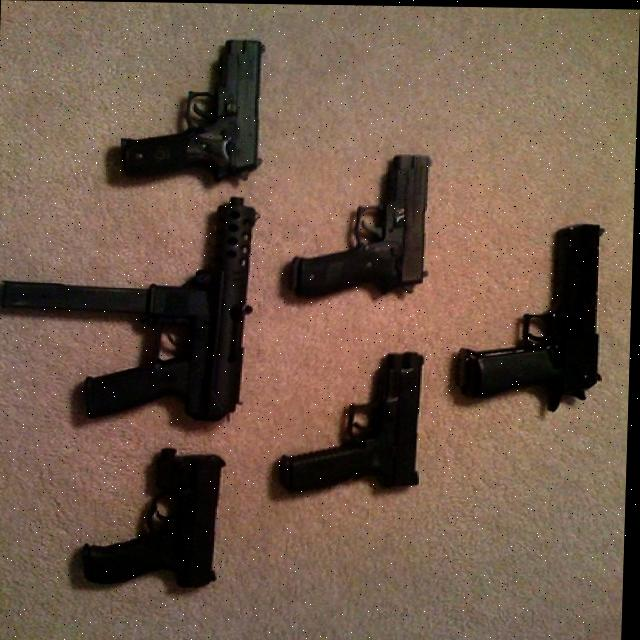pistol: (0, 193, 265, 422), (460, 219, 606, 413), (115, 38, 266, 184), (80, 446, 230, 591), (283, 349, 426, 497), (294, 151, 435, 301)
